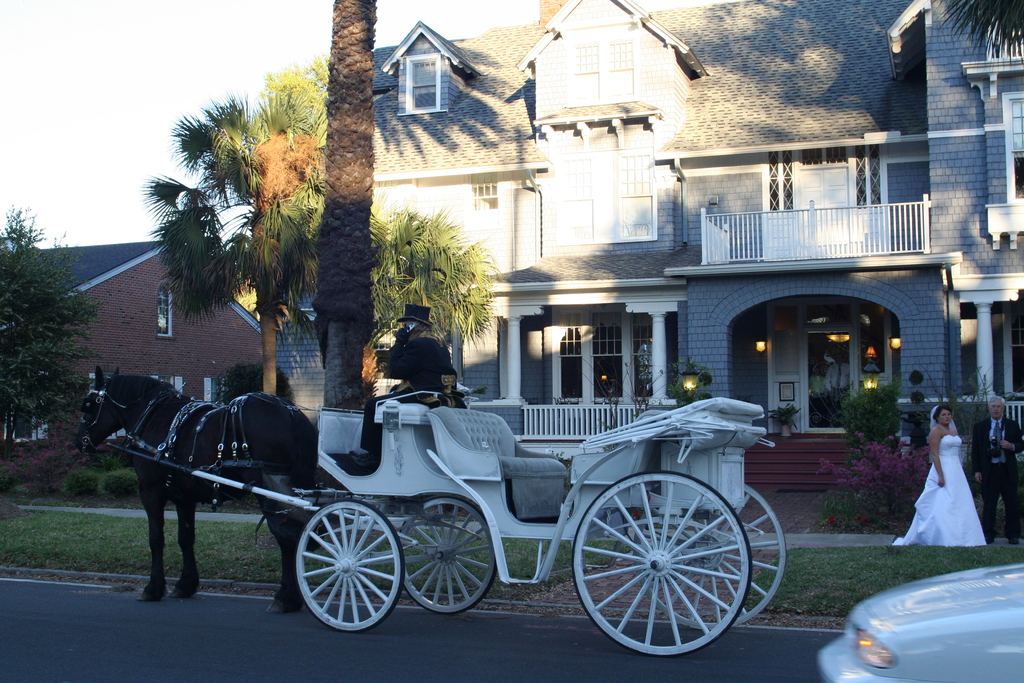Car: (815, 558, 1023, 682)
